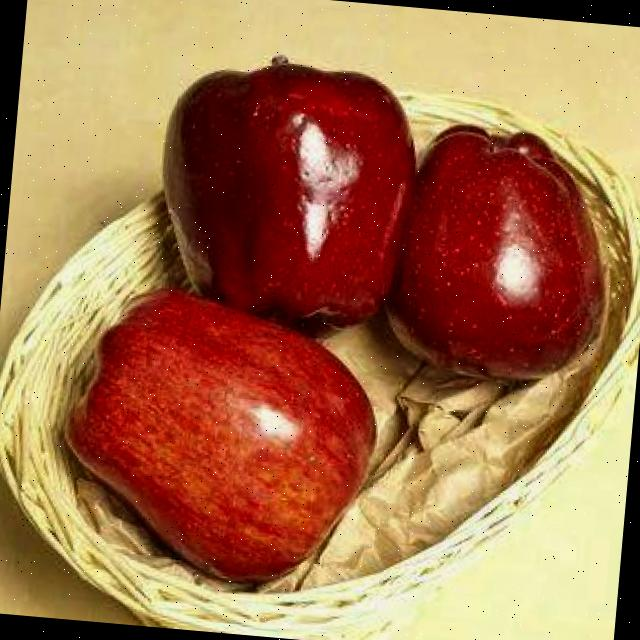apple: (25, 240, 392, 616), (125, 0, 455, 380), (336, 85, 634, 431)
